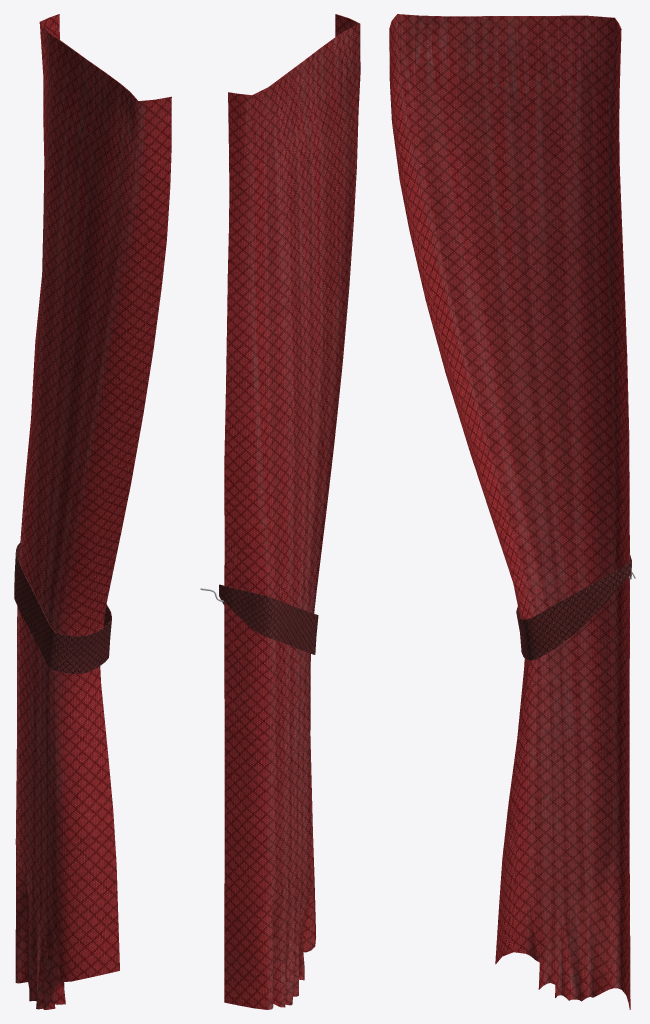
The model's file is Prop_Curtain.fbx.
3 renders of one model, left to right at view 1: azimuth 30°, elevation 25°; view 2: azimuth 150°, elevation 25°; view 3: azimuth 270°, elevation 25°, orthographic. The views are drawn at different scales.
Parts seen in each view (by area): view 1: Prop_Curtain; view 2: Prop_Curtain; view 3: Prop_Curtain.
Boxes of the visible parts, x1,y1,x2,y2 form: Prop_Curtain: [14, 14, 171, 1009]; Prop_Curtain: [200, 14, 360, 1009]; Prop_Curtain: [389, 14, 635, 1009].
Bounding box in the file's own units: 23.79 × 298 × 66.99.
